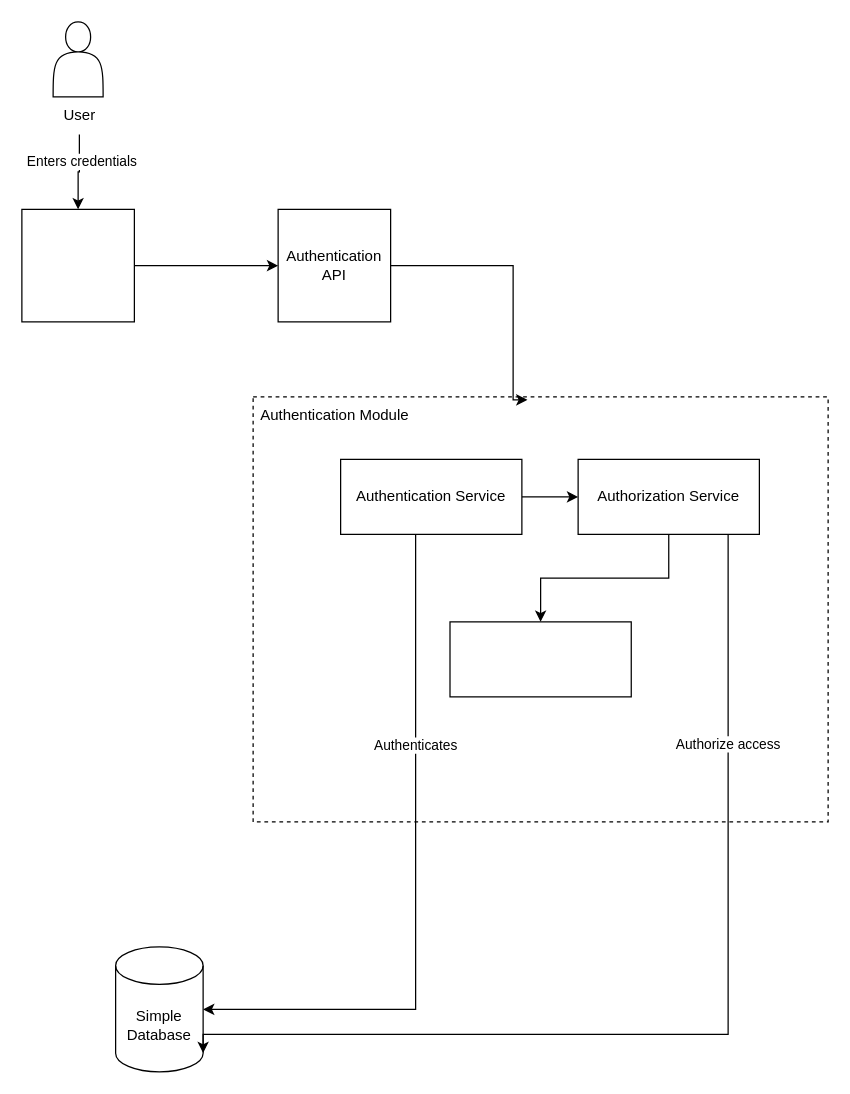
This 850x1094 diagram has some shape labels left out. The shapes that lost their labels are listed below. From the top down, each one's centre as x and y in pixels, then its label:
[77,265]: User Interface
[540,659]: Token Service
